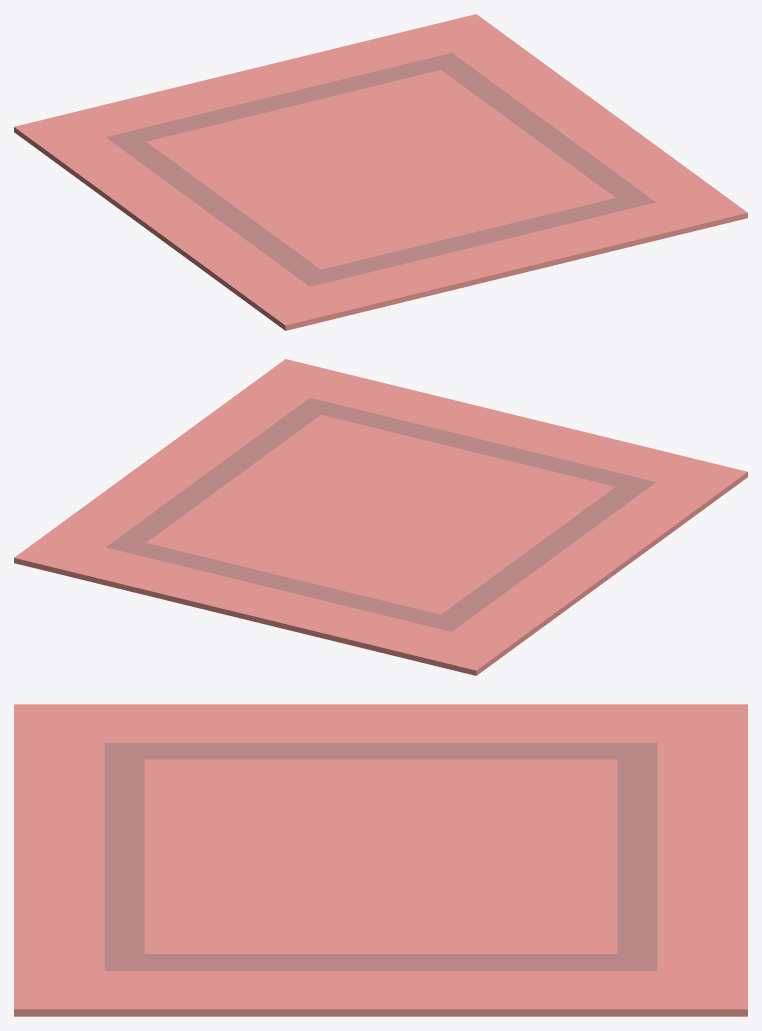
The model's file is rug-square.glb.
The picture shows the model from 3 angles, top to bottom: view 1: azimuth 30°, elevation 25°; view 2: azimuth 150°, elevation 25°; view 3: azimuth 270°, elevation 25°; orthographic projection. The views are drawn at different scales.
Parts seen in each view (by area): view 1: Mesh0, Mesh1; view 2: Mesh0, Mesh1; view 3: Mesh0, Mesh1.
Boxes of the visible parts, <box> form: Mesh0: <box>14,14,747,330</box>; Mesh1: <box>106,52,655,286</box>; Mesh0: <box>14,359,747,675</box>; Mesh1: <box>106,397,655,631</box>; Mesh0: <box>14,704,747,1016</box>; Mesh1: <box>104,742,657,970</box>.
Bounding box in the file's own units: 0.9043 × 0.01 × 0.92.
